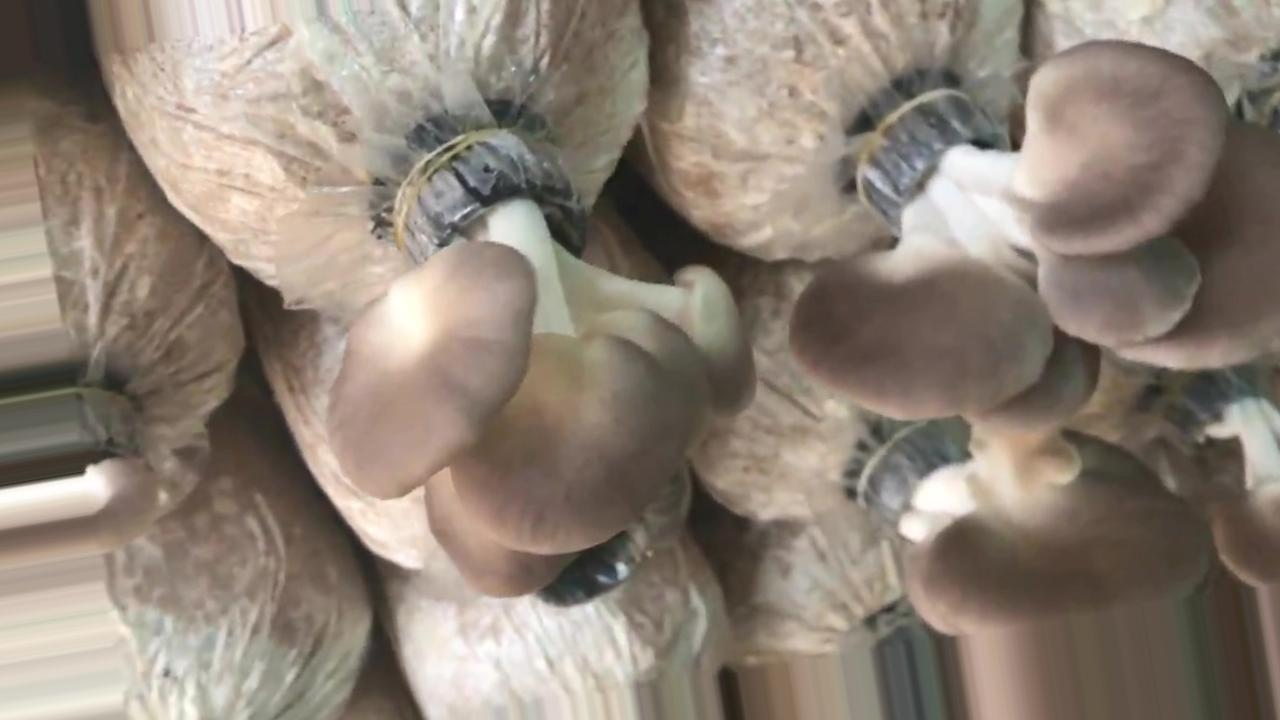nam: (332, 137, 756, 591), (795, 46, 1280, 428), (867, 420, 1204, 720), (1, 367, 155, 570), (1182, 373, 1280, 587)
